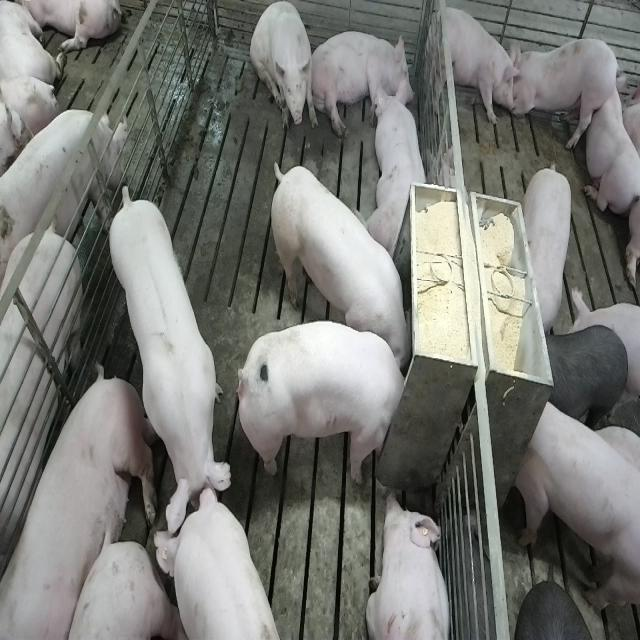Feeding: (266, 160, 412, 368), (242, 320, 416, 487)
Lateral_lying: (4, 367, 158, 640), (308, 29, 417, 140)
Sitting: (250, 3, 314, 137)
Standing: (105, 186, 230, 533), (0, 221, 86, 567), (515, 394, 638, 624), (0, 102, 123, 277), (149, 487, 281, 640), (507, 34, 619, 150), (431, 4, 518, 131), (524, 160, 576, 331), (546, 323, 629, 425)
Sternal_lying: (366, 489, 452, 640), (368, 85, 431, 263), (584, 77, 639, 213)
